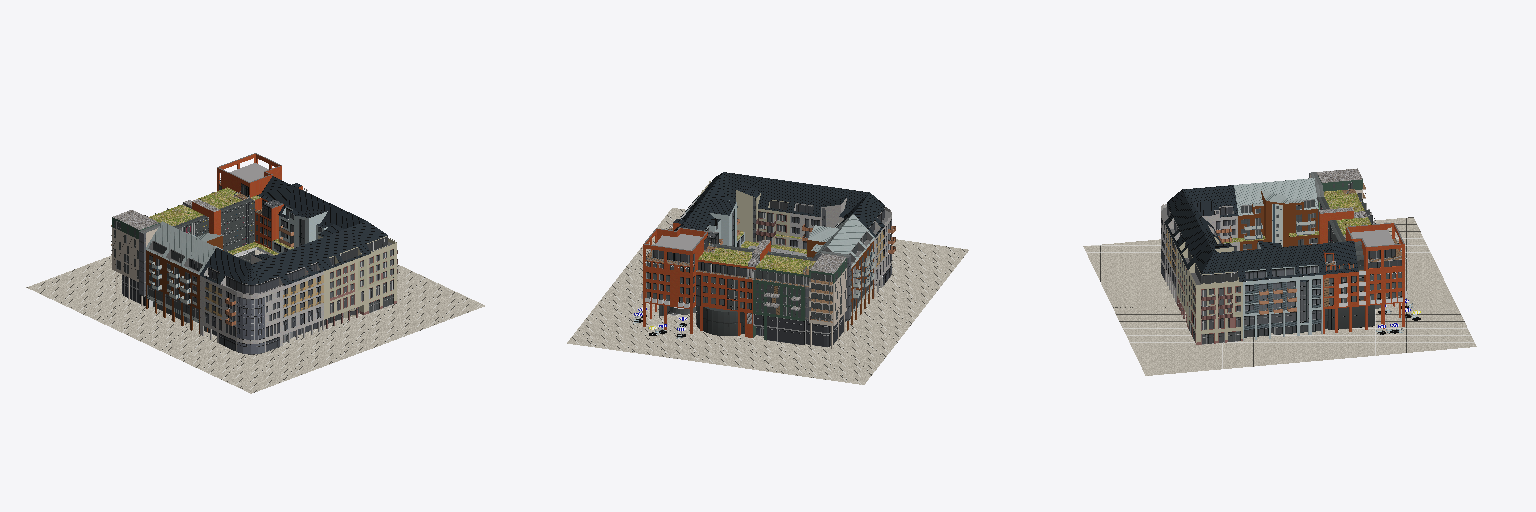
3 views of the same model, side by side, from view 1: azimuth 30°, elevation 25°; view 2: azimuth 150°, elevation 25°; view 3: azimuth 270°, elevation 25° (orthographic).
Parts seen in each view (by area): view 1: obj889, obj211472, obj24, obj239497, obj112439, obj294, obj701, obj632, obj242499, obj482, obj238496, obj285 (+9 smaller); view 2: obj889, obj211472, obj24, obj32372, obj665, obj55, obj672, obj112439, obj56394, obj666, obj632, obj482 (+11 smaller); view 3: obj889, obj482, obj211472, obj24, obj112439, obj121448, obj632, obj672, obj325, obj633, obj651, obj326 (+7 smaller).
Part boxes in pixels (bbox=[...]): obj889: bbox=[26, 250, 484, 393]; obj211472: bbox=[200, 244, 321, 285]; obj24: bbox=[309, 213, 387, 270]; obj239497: bbox=[205, 275, 323, 318]; obj112439: bbox=[145, 221, 222, 274]; obj294: bbox=[324, 248, 396, 319]; obj701: bbox=[221, 200, 254, 251]; obj632: bbox=[192, 154, 280, 233]; obj242499: bbox=[237, 297, 264, 340]; obj482: bbox=[278, 187, 349, 226]; obj238496: bbox=[200, 278, 323, 341]; obj285: bbox=[330, 259, 366, 298]; obj889: bbox=[567, 208, 968, 384]; obj211472: bbox=[793, 183, 884, 237]; obj24: bbox=[703, 172, 796, 212]; obj32372: bbox=[753, 314, 843, 346]; obj665: bbox=[701, 272, 752, 313]; obj55: bbox=[756, 270, 832, 320]; obj672: bbox=[643, 223, 755, 309]; obj112439: bbox=[811, 214, 874, 260]; obj56394: bbox=[753, 258, 846, 339]; obj666: bbox=[646, 260, 695, 308]; obj632: bbox=[643, 228, 770, 266]; obj482: bbox=[681, 182, 737, 230]; obj889: bbox=[1083, 217, 1476, 375]; obj482: bbox=[1238, 244, 1322, 281]; obj211472: bbox=[1164, 185, 1238, 242]; obj24: bbox=[1175, 221, 1240, 274]; obj112439: bbox=[1234, 178, 1318, 215]; obj121448: bbox=[1238, 202, 1318, 250]; obj632: bbox=[1320, 211, 1404, 268]; obj672: bbox=[1323, 250, 1404, 309]; obj325: bbox=[1254, 281, 1295, 313]; obj633: bbox=[1319, 241, 1358, 274]; obj651: bbox=[1329, 305, 1374, 329]; obj326: bbox=[1244, 310, 1321, 329].
Size of the model in its own units: 0.9556 by 0.2366 by 1.
139 materials, 100 textured.